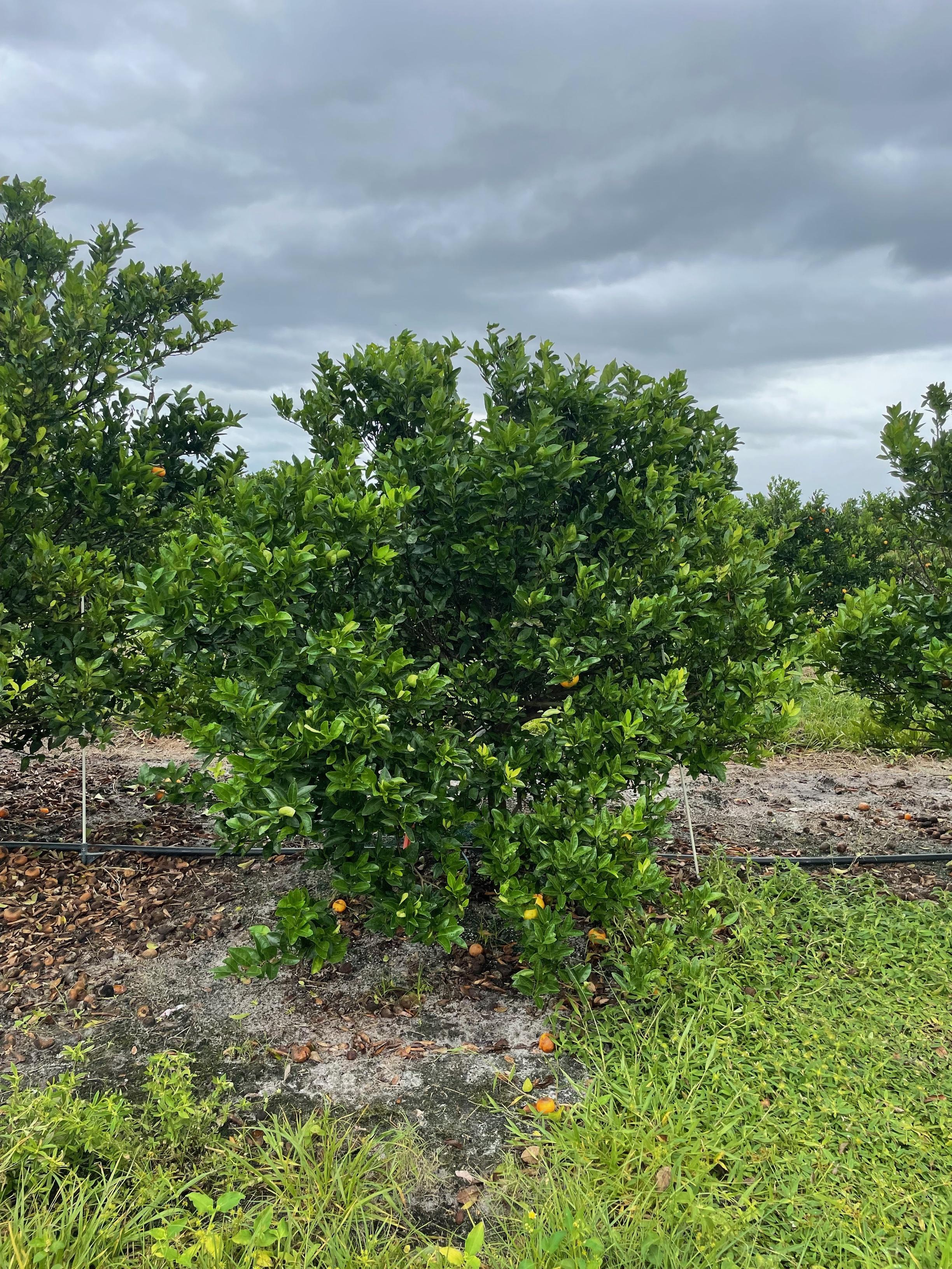fruit_on_ground: (519, 895, 548, 923), (556, 666, 582, 691), (586, 925, 610, 946), (148, 461, 168, 481), (938, 674, 952, 689)
fruit_on_tree: (534, 1093, 557, 1116), (289, 1042, 312, 1063), (537, 1031, 557, 1054), (466, 940, 486, 958), (329, 896, 349, 914), (23, 864, 42, 879), (154, 787, 168, 801), (13, 853, 29, 865), (856, 800, 871, 812), (0, 804, 10, 819), (903, 811, 914, 821)
